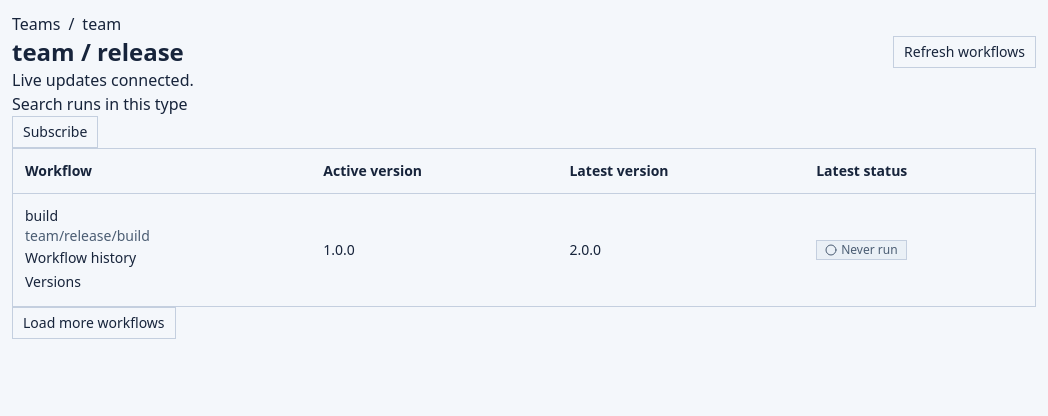
Test: catalogue views › retains loaded workflows when another page fails and refresh recovers
Expected: the table is shown, left=13, top=149, right=1035, bottom=306
Click the button "Load more workflows".
click(94, 323)  # box left=12, top=307, right=176, bottom=339
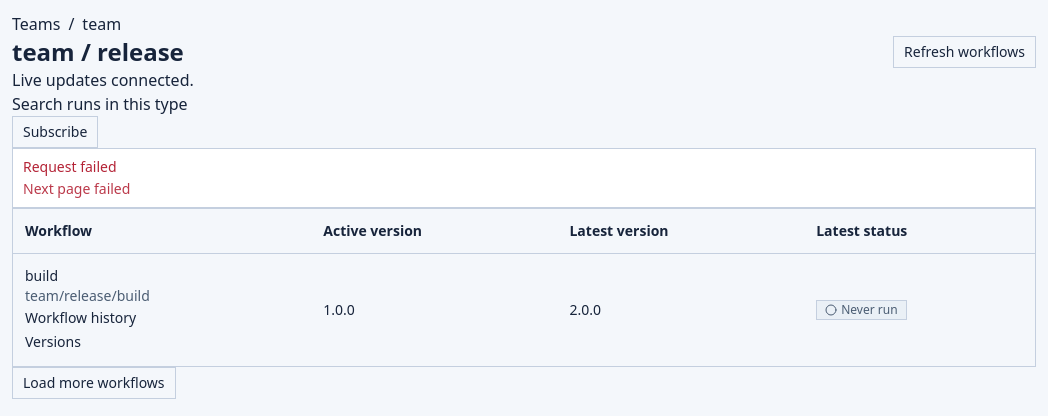
Expected: the table shows "build", left=25, top=266, right=58, bottom=285
Expected: the message "Request failed Next page failed" is shown, left=12, top=148, right=1036, bottom=208
Click the button "Refresh workflows".
click(965, 52)  # box left=893, top=36, right=1036, bottom=68
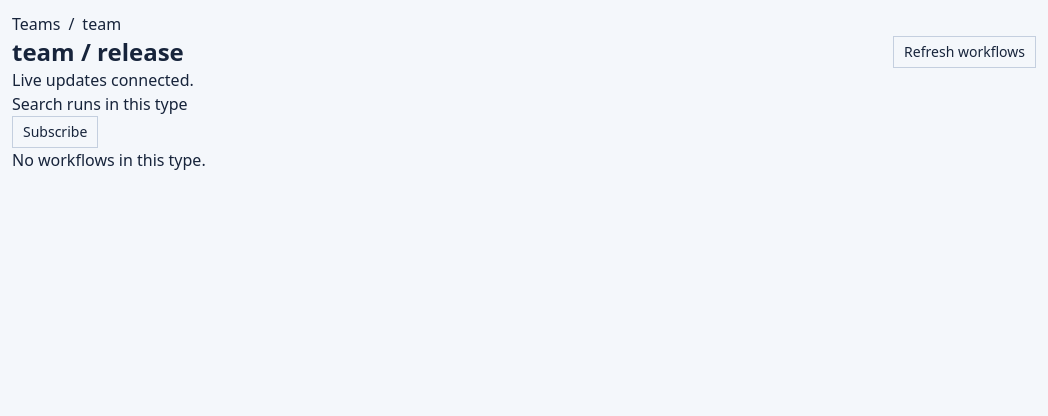
Expected: the text "No workflows in this type." is shown, left=12, top=149, right=206, bottom=171
